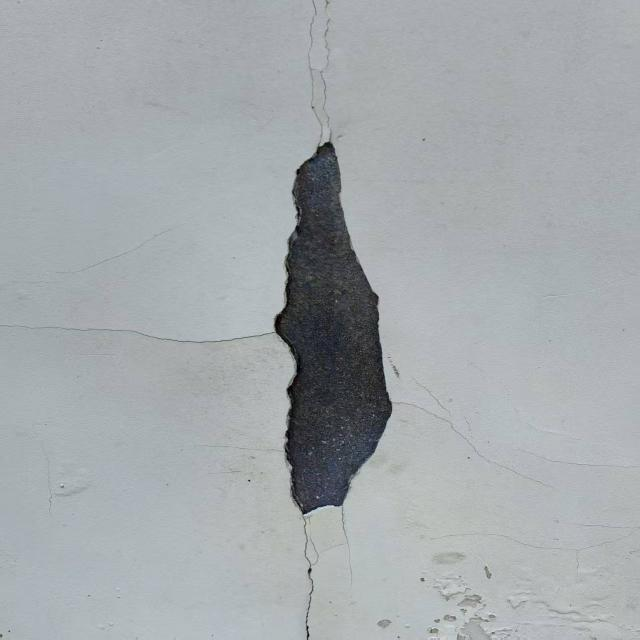crack: (396, 369, 553, 498), (2, 323, 277, 346), (302, 1, 338, 142), (511, 442, 635, 476), (296, 514, 323, 638)
spalling: (270, 140, 399, 522), (371, 567, 638, 639)
